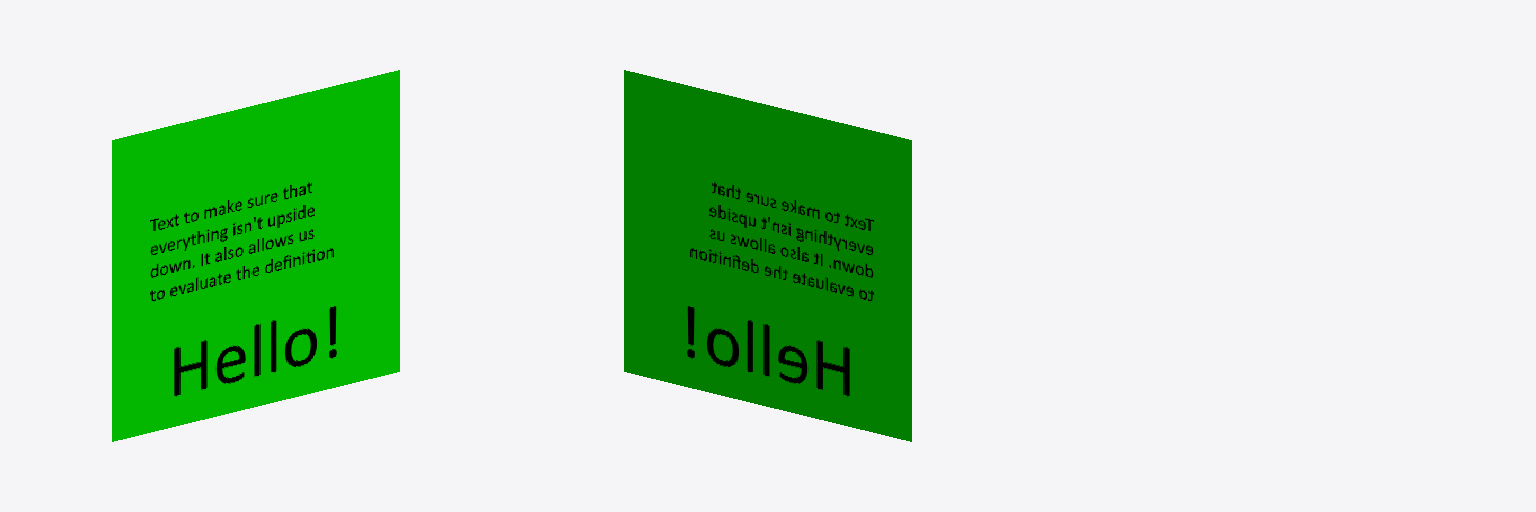
3 renders of one model, left to right at view 1: azimuth 30°, elevation 25°; view 2: azimuth 150°, elevation 25°; view 3: azimuth 270°, elevation 25°, orthographic.
Visible parts, largest first — view 1: quad; view 2: quad; view 3: none.
Part boxes in pixels (x1,y1,x2,y2): quad: (112, 70, 399, 441); quad: (624, 70, 911, 441).
Size of the model in its own units: 1 by 1 by 0.
1 materials, 1 textured.